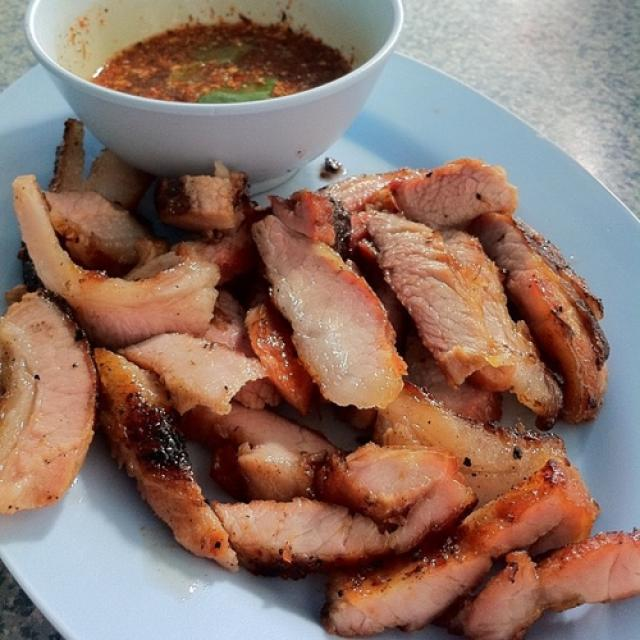猪肉菜式: (8, 26, 608, 604)
